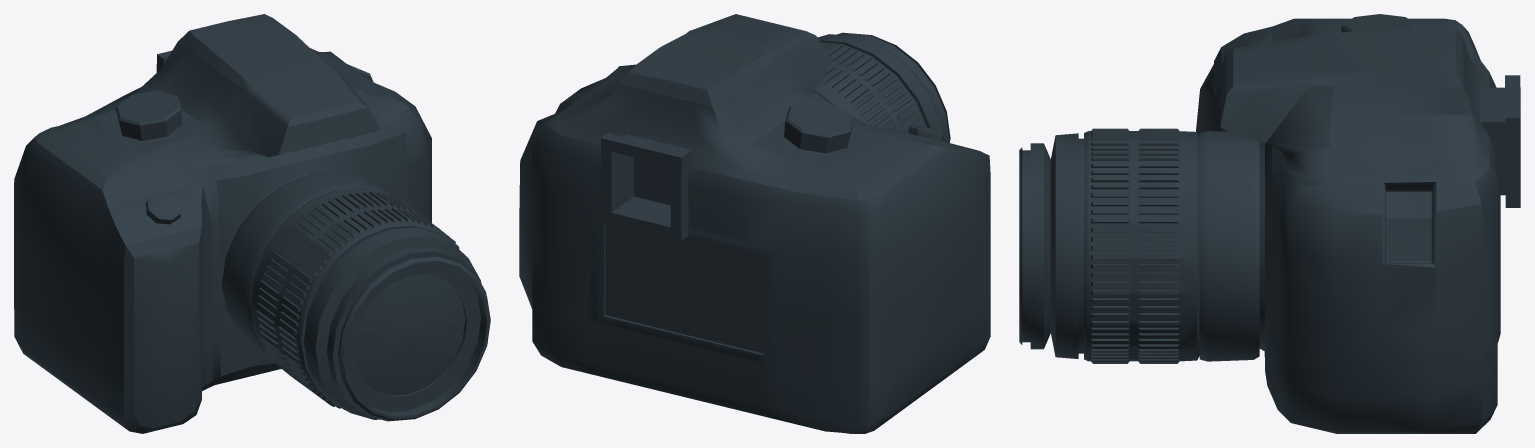
Rendered from dslr_camera.glb.
3 renders of one model, left to right at view 1: azimuth 30°, elevation 25°; view 2: azimuth 150°, elevation 25°; view 3: azimuth 270°, elevation 25°, orthographic. The views are drawn at different scales.
Visible parts, largest first — view 1: dslr_camera; view 2: dslr_camera; view 3: dslr_camera.
Part boxes in pixels (x1=…): dslr_camera: x1=14, y1=14, x2=490, y2=433; dslr_camera: x1=519, y1=14, x2=990, y2=433; dslr_camera: x1=1019, y1=14, x2=1520, y2=433.
Bounding box in the file's own units: 0.1906 × 0.1448 × 0.2.
